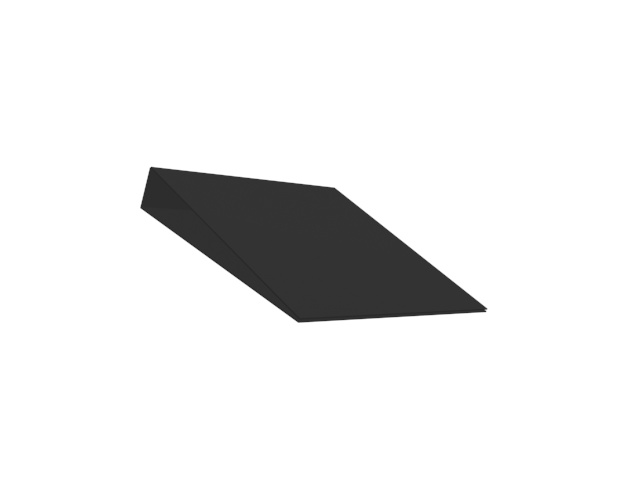ring_binder: (137, 161, 488, 328)
